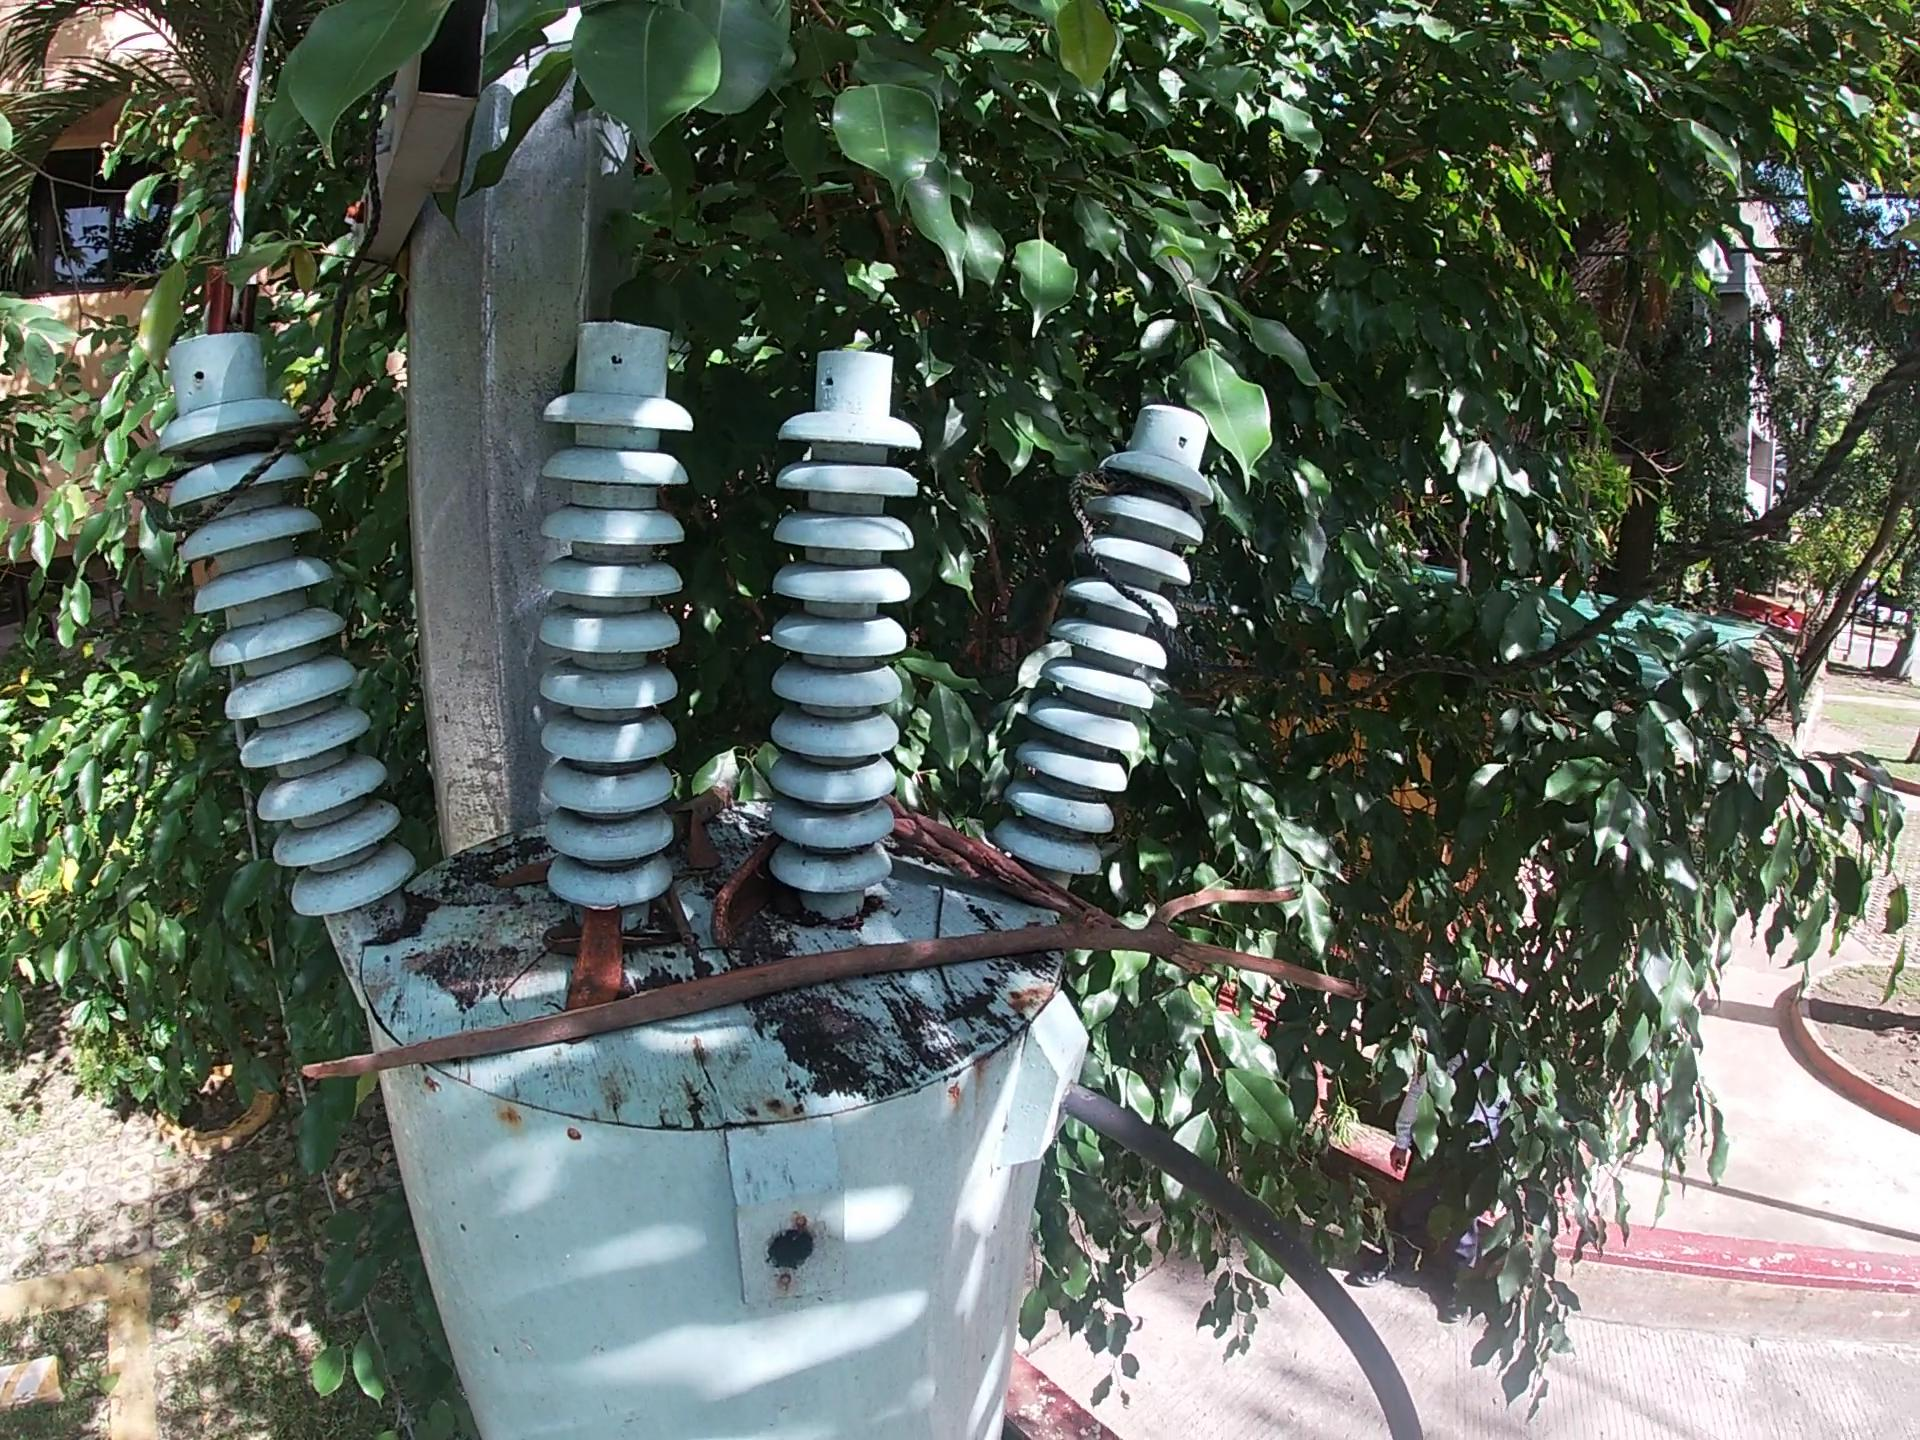leaf: (680, 796, 727, 885), (476, 852, 565, 892), (544, 905, 588, 959)
mahogany fruit: (708, 832, 785, 959), (561, 898, 633, 1016)
tree branch: (289, 879, 1367, 1095), (880, 787, 1132, 929), (667, 781, 733, 839), (661, 876, 698, 947)
